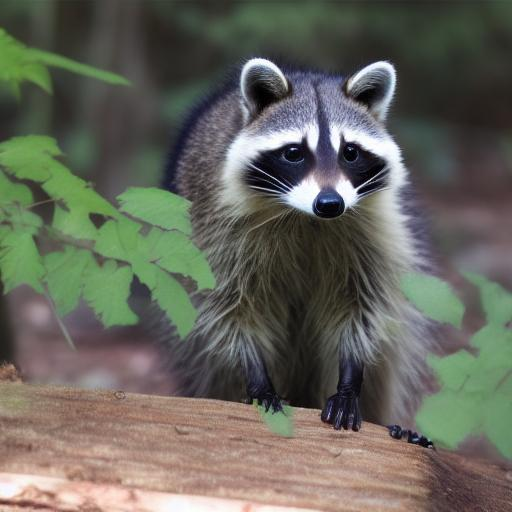raccoon: (137, 48, 451, 404)
